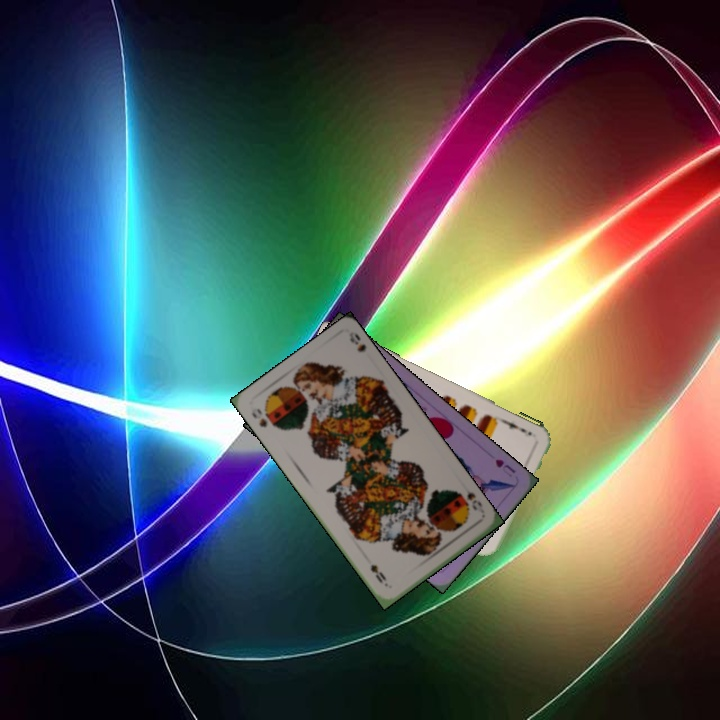E7: (500, 416, 534, 438)
HU: (491, 455, 518, 480)
SO: (452, 481, 485, 513), (247, 404, 270, 430)
